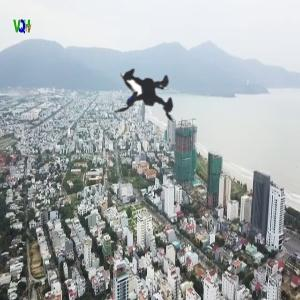drone: (86, 24, 218, 156)
